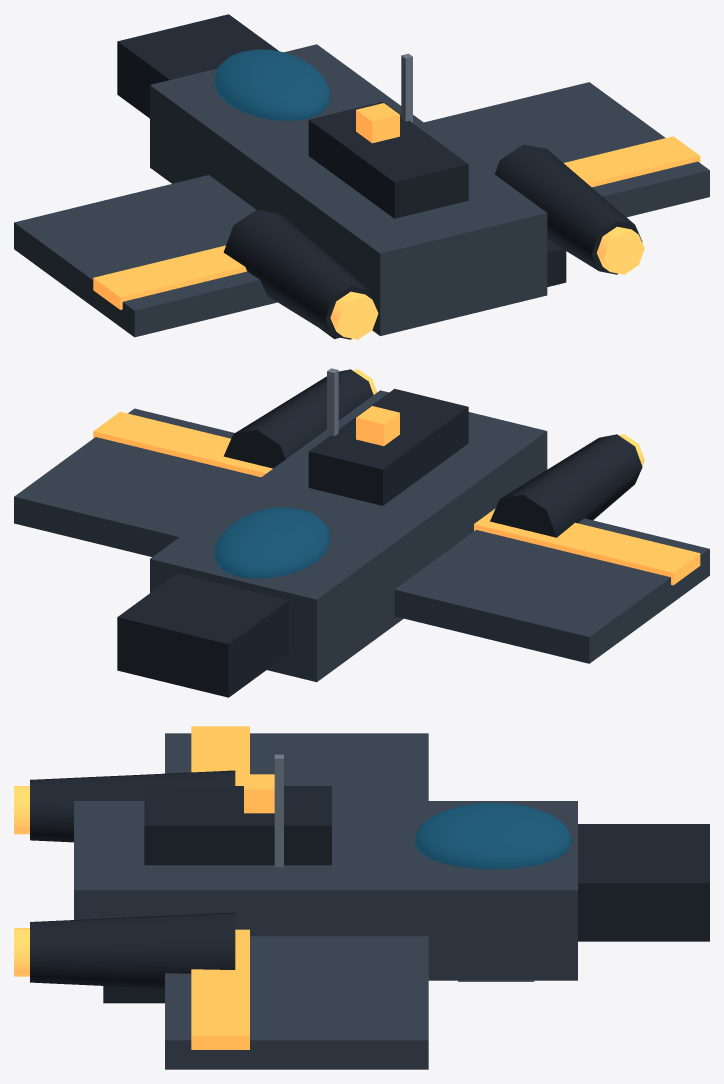
The model's file is ironwake.glb.
3 views of the same model, one above another, from view 1: azimuth 30°, elevation 25°; view 2: azimuth 150°, elevation 25°; view 3: azimuth 270°, elevation 25° (orthographic). The views are drawn at different scales.
Parts seen in each view (by area): view 1: core_hull, armor_wing_-1, Ironwake_Placeholder, armor_wing_1, dorsal_block, nose_block, bridge, wing_light_-1, wing_light_1, engine_glow_r, engine_glow_l, beacon (+1 smaller); view 2: core_hull, armor_wing_-1, armor_wing_1, nose_block, Ironwake_Placeholder, dorsal_block, bridge, wing_light_-1, wing_light_1, beacon, antenna; view 3: core_hull, armor_wing_1, Ironwake_Placeholder, nose_block, dorsal_block, armor_wing_-1, bridge, wing_light_1, wing_light_-1, beacon, antenna, engine_glow_l (+1 smaller).
Part boxes in pixels (x1=…): core_hull: x1=150, y1=44, x2=547, y2=335; armor_wing_-1: x1=14, y1=175, x2=277, y2=337; Ironwake_Placeholder: x1=223, y1=144, x2=642, y2=339; armor_wing_1: x1=424, y1=82, x2=709, y2=217; dorsal_block: x1=308, y1=101, x2=468, y2=218; nose_block: x1=117, y1=14, x2=279, y2=118; bridge: x1=214, y1=49, x2=330, y2=120; wing_light_-1: x1=93, y1=245, x2=246, y2=309; wing_light_1: x1=564, y1=136, x2=700, y2=187; engine_glow_r: x1=597, y1=226, x2=644, y2=274; engine_glow_l: x1=330, y1=291, x2=378, y2=339; beacon: x1=356, y1=103, x2=399, y2=143; core_hull: x1=150, y1=390, x2=547, y2=682; armor_wing_-1: x1=394, y1=518, x2=709, y2=663; armor_wing_1: x1=14, y1=408, x2=260, y2=556; nose_block: x1=117, y1=573, x2=288, y2=697; Ironwake_Placeholder: x1=223, y1=369, x2=642, y2=537; dorsal_block: x1=308, y1=388, x2=468, y2=505; bridge: x1=214, y1=507, x2=330, y2=578; wing_light_-1: x1=474, y1=508, x2=700, y2=585; wing_light_1: x1=93, y1=411, x2=272, y2=477; beacon: x1=356, y1=406, x2=399, y2=446; antenna: x1=327, y1=368, x2=338, y2=437; core_hull: x1=74, y1=801, x2=577, y2=980; armor_wing_1: x1=165, y1=936, x2=428, y2=1069; Ironwake_Placeholder: x1=30, y1=770, x2=235, y2=1003; nose_block: x1=578, y1=824, x2=709, y2=941; dorsal_block: x1=144, y1=786, x2=331, y2=865; armor_wing_-1: x1=165, y1=733, x2=428, y2=800; bridge: x1=414, y1=802, x2=572, y2=869; wing_light_1: x1=191, y1=929, x2=249, y2=1049; wing_light_-1: x1=191, y1=726, x2=249, y2=785; beacon: x1=244, y1=774, x2=274, y2=813; antenna: x1=274, y1=754, x2=283, y2=867; engine_glow_l: x1=14, y1=786, x2=29, y2=834.
Bounding box in the file's own units: 12.5 × 3.92 × 11.88.
